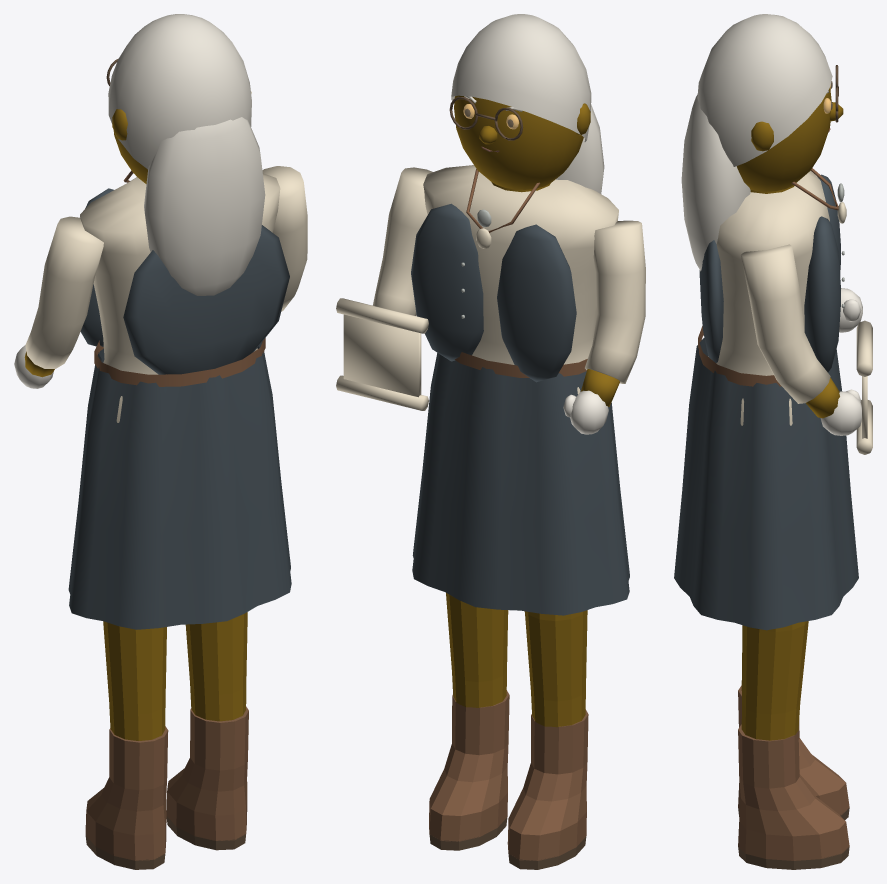
File: SM_NPC_VULCANIA.glb
The picture shows the model from 3 angles, left to right: view 1: azimuth 30°, elevation 25°; view 2: azimuth 150°, elevation 25°; view 3: azimuth 270°, elevation 25°; orthographic projection. The views are drawn at different scales.
Visible parts, largest first — view 1: SM_NPC_VULCANIA_BODY, SM_NPC_VULCANIA_HAIR, SM_NPC_VULCANIA_LEG_L, SM_NPC_VULCANIA_LEG_R, SM_NPC_VULCANIA_ARM_L, SM_NPC_VULCANIA_ARM_R, SM_NPC_VULCANIA_HEAD; view 2: SM_NPC_VULCANIA_BODY, SM_NPC_VULCANIA_LEG_L, SM_NPC_VULCANIA_LEG_R, SM_NPC_VULCANIA_HAIR, SM_NPC_VULCANIA_ARM_R, SM_NPC_VULCANIA_ARM_L, SM_NPC_VULCANIA_HEAD; view 3: SM_NPC_VULCANIA_BODY, SM_NPC_VULCANIA_HAIR, SM_NPC_VULCANIA_LEG_R, SM_NPC_VULCANIA_ARM_R, SM_NPC_VULCANIA_HEAD, SM_NPC_VULCANIA_LEG_L, SM_NPC_VULCANIA_ARM_L.
Part boxes in pixels (x1,y1,x2,y2): SM_NPC_VULCANIA_BODY: (68,170,291,629); SM_NPC_VULCANIA_HAIR: (108,14,265,295); SM_NPC_VULCANIA_LEG_L: (85,621,168,869); SM_NPC_VULCANIA_LEG_R: (166,612,248,850); SM_NPC_VULCANIA_ARM_L: (14,216,103,388); SM_NPC_VULCANIA_ARM_R: (262,166,307,311); SM_NPC_VULCANIA_HEAD: (106,58,251,183); SM_NPC_VULCANIA_BODY: (411,165,629,615); SM_NPC_VULCANIA_LEG_L: (507,610,588,869); SM_NPC_VULCANIA_LEG_R: (429,593,509,850); SM_NPC_VULCANIA_HAIR: (451,14,604,193); SM_NPC_VULCANIA_ARM_R: (336,167,432,410); SM_NPC_VULCANIA_ARM_L: (563,220,645,434); SM_NPC_VULCANIA_HEAD: (449,95,590,189); SM_NPC_VULCANIA_BODY: (674,168,858,630); SM_NPC_VULCANIA_HAIR: (681,14,832,271); SM_NPC_VULCANIA_LEG_R: (738,621,849,869); SM_NPC_VULCANIA_ARM_R: (741,244,872,454); SM_NPC_VULCANIA_HEAD: (737,65,843,191); SM_NPC_VULCANIA_LEG_L: (738,625,849,819); SM_NPC_VULCANIA_ARM_L: (839,288,862,332).
Size of the model in its own units: 0.6101 by 1.81 by 0.3997.
